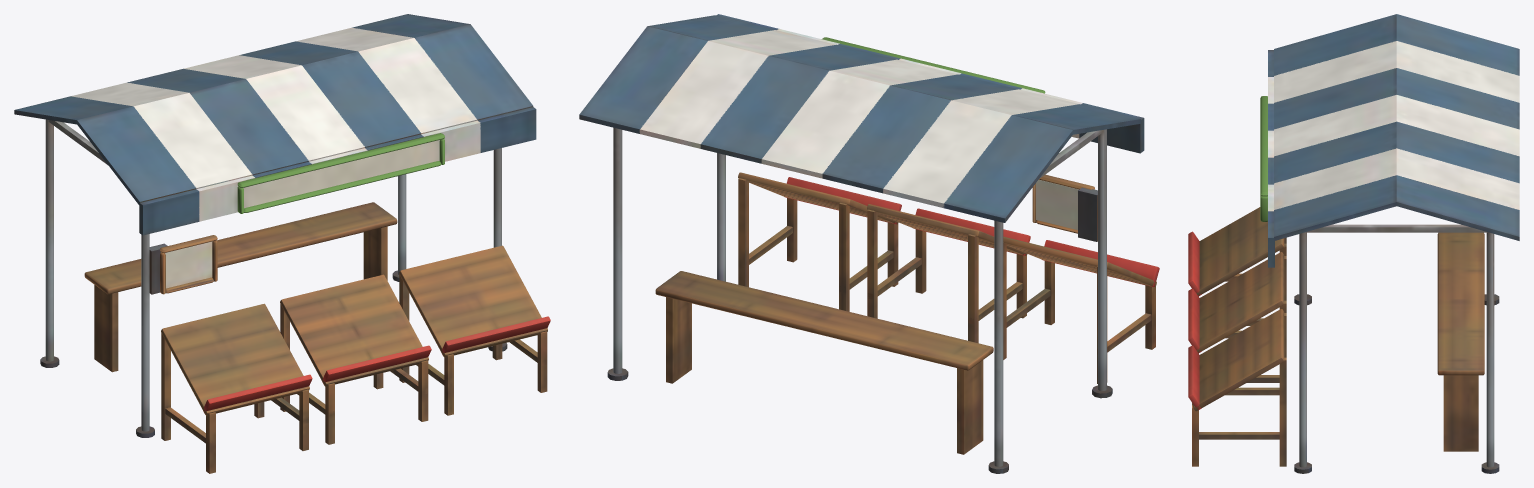
The model's file is fruit_stall.glb.
3 views of the same model, side by side, from view 1: azimuth 30°, elevation 25°; view 2: azimuth 150°, elevation 25°; view 3: azimuth 270°, elevation 25° (orthographic). The views are drawn at different scales.
Visible parts, largest first — view 1: fruit_stall; view 2: fruit_stall; view 3: fruit_stall.
Part boxes in pixels (x1=…): fruit_stall: x1=14, y1=14, x2=550, y2=473; fruit_stall: x1=579, y1=14, x2=1159, y2=473; fruit_stall: x1=1188, y1=14, x2=1519, y2=473.
Size of the model in its own units: 3.8 by 2.62 by 2.83.
Materials: 8 (7 with a texture image).
